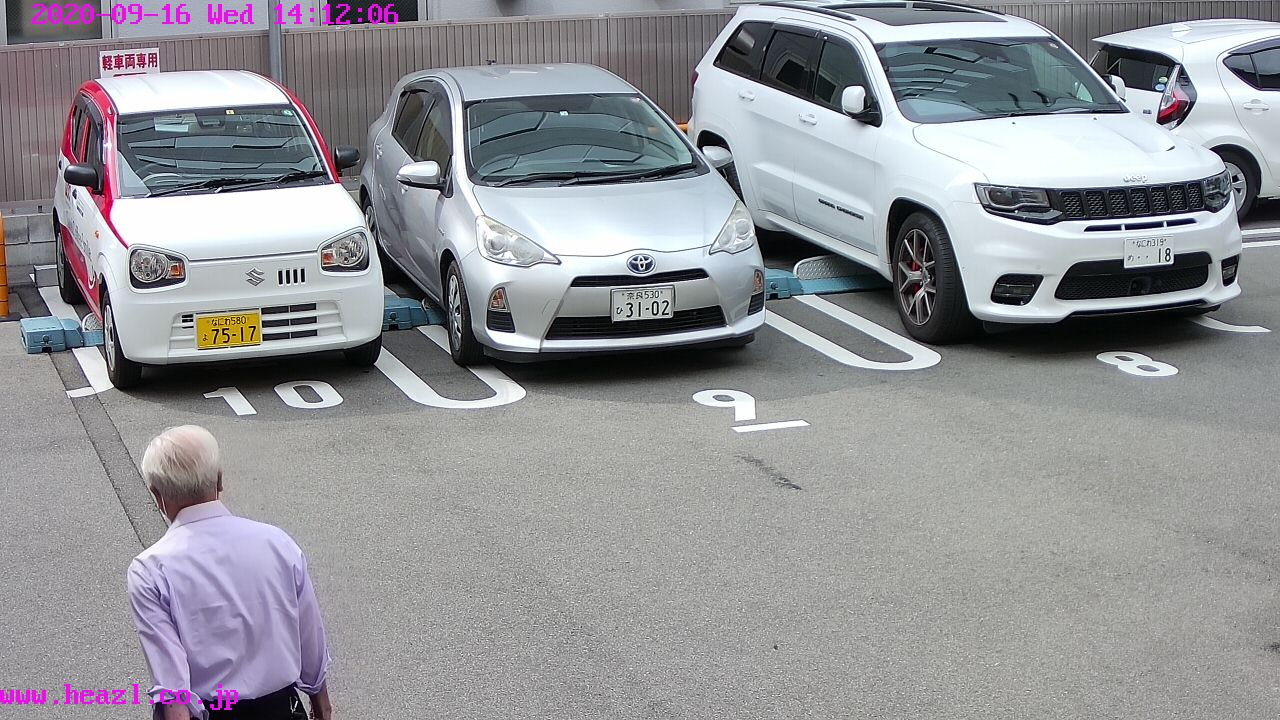number_plate: (195, 315, 262, 346), (613, 290, 678, 320), (1122, 237, 1175, 265)
